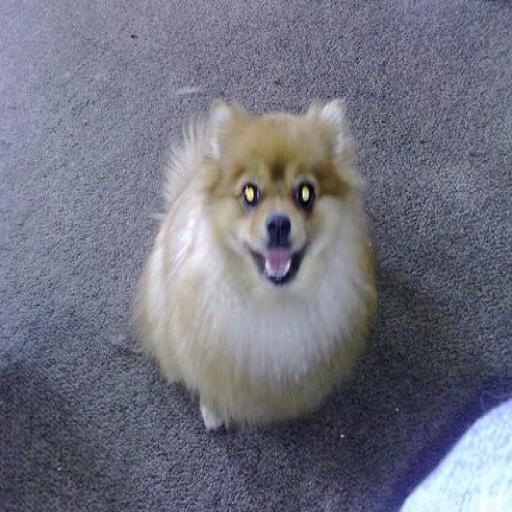dog_face: (209, 97, 350, 295)
